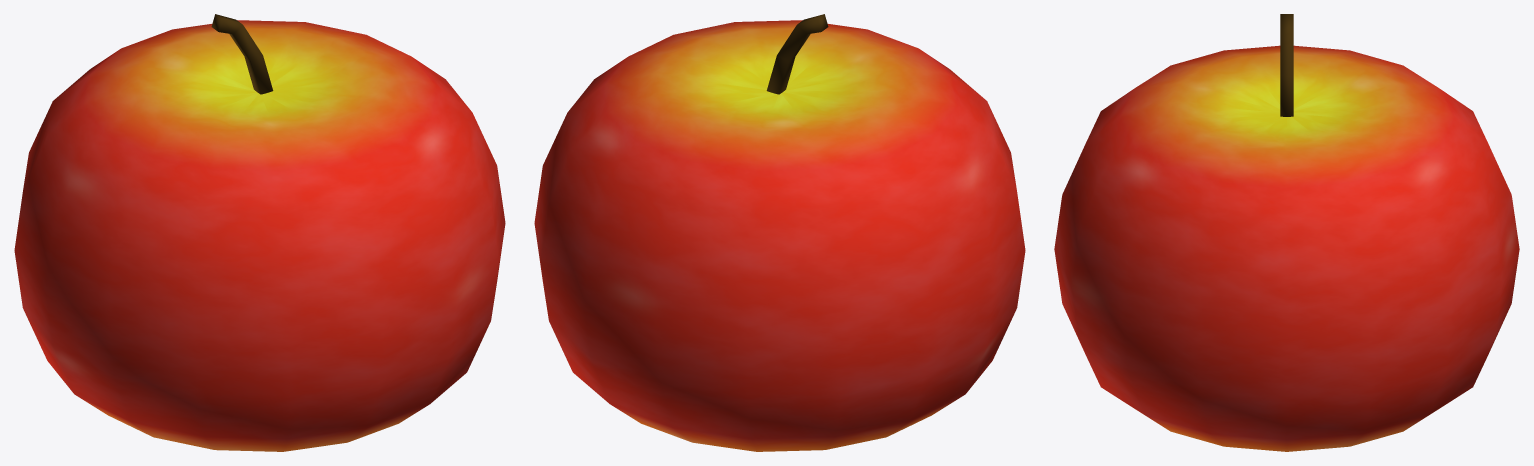
The model's file is Apple.fbx.
3 views of the same model, side by side, from view 1: azimuth 30°, elevation 25°; view 2: azimuth 150°, elevation 25°; view 3: azimuth 270°, elevation 25° (orthographic). The views are drawn at different scales.
Visible parts, largest first — view 1: Sphere, Cube; view 2: Sphere, Cube; view 3: Sphere, Cube.
Boxes of the visible parts, x1=… form: Sphere: x1=14, y1=20, x2=505, y2=451; Cube: x1=211, y1=14, x2=273, y2=94; Sphere: x1=534, y1=20, x2=1025, y2=451; Cube: x1=766, y1=14, x2=828, y2=94; Sphere: x1=1054, y1=45, x2=1519, y2=451; Cube: x1=1280, y1=14, x2=1293, y2=116.
Bounding box in the file's own units: 8.1 × 7.15 × 8.1.
Materials: 2 (1 with a texture image).
